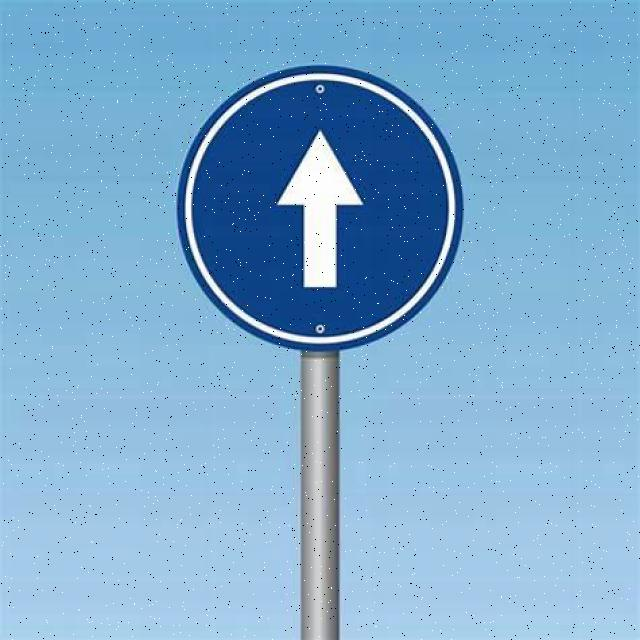compulsory_ahead: (178, 61, 464, 346)
